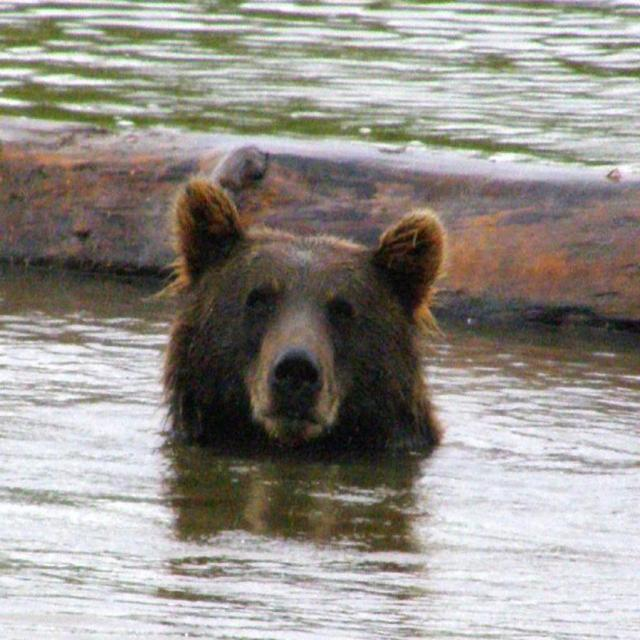Cheetahs: (136, 179, 445, 461)
